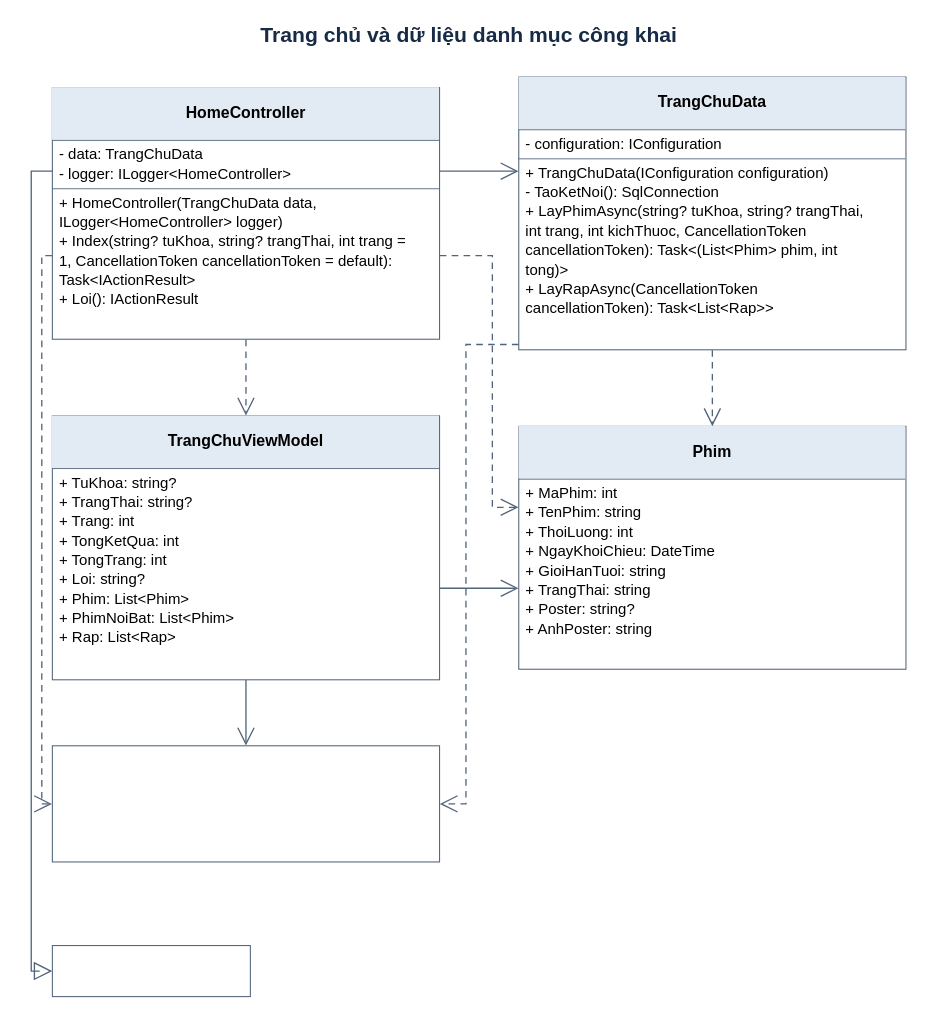
Some shapes in this 926 by 1012 pixel diagram are drawn without their labels. The box of each missing label's shape, as (x1, y1, x2, y2) in pixels:
Rap + TenRap: string + DiaChi: string: (51, 745, 440, 862)
«framework» Controller: (51, 945, 250, 997)
